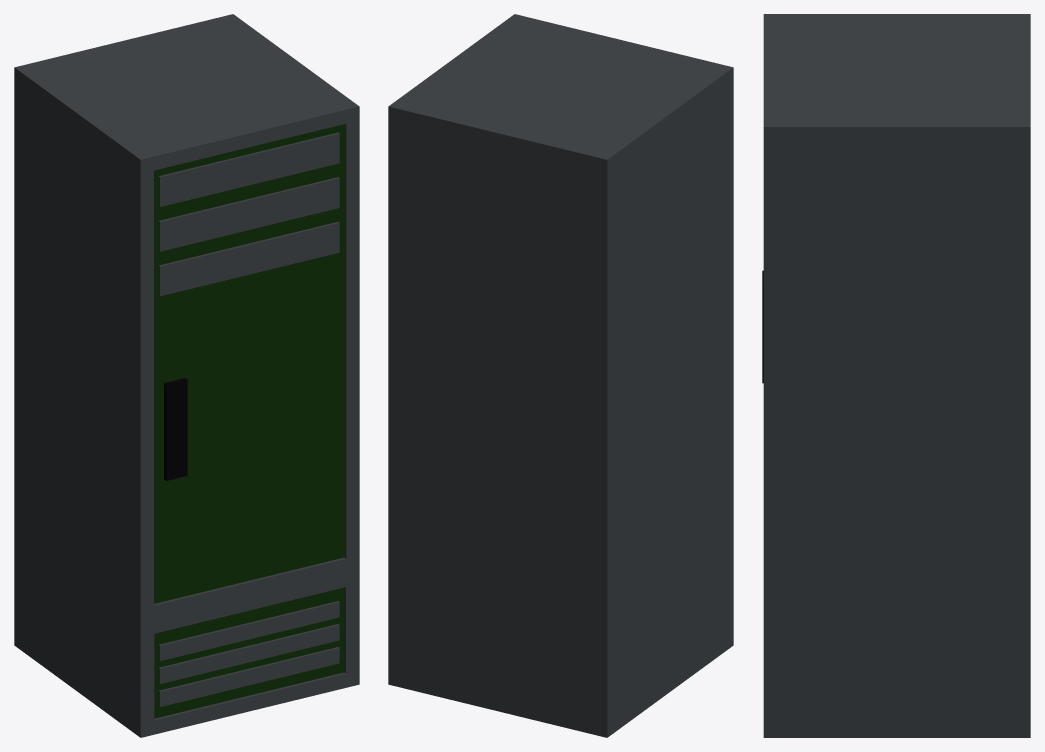
Rendered from Loker.fbx.
3 renders of one model, left to right at view 1: azimuth 30°, elevation 25°; view 2: azimuth 150°, elevation 25°; view 3: azimuth 270°, elevation 25°, orthographic. The views are drawn at different scales.
Parts seen in each view (by area): view 1: Locker 3; view 2: Locker 3; view 3: Locker 3.
Boxes of the visible parts, bbox=[...] form: Locker 3: bbox=[14, 14, 359, 737]; Locker 3: bbox=[388, 14, 733, 737]; Locker 3: bbox=[762, 14, 1030, 737].
Size of the model in its own units: 61.52 by 155 by 61.88.
